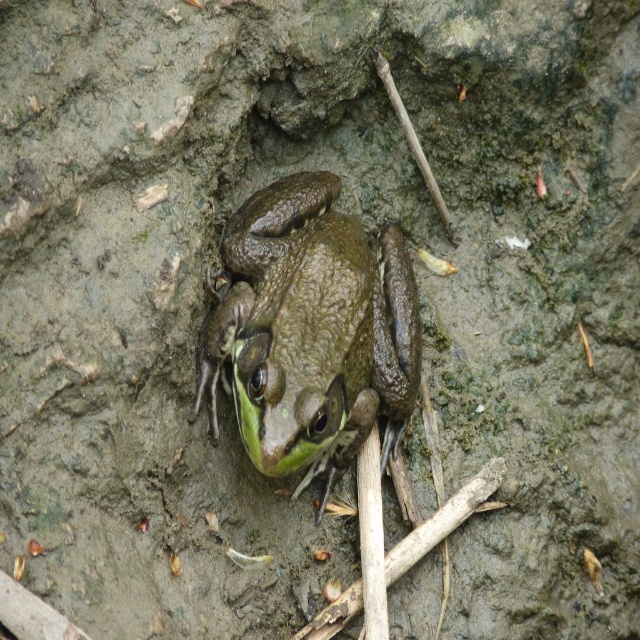Frog: (189, 172, 422, 524)
